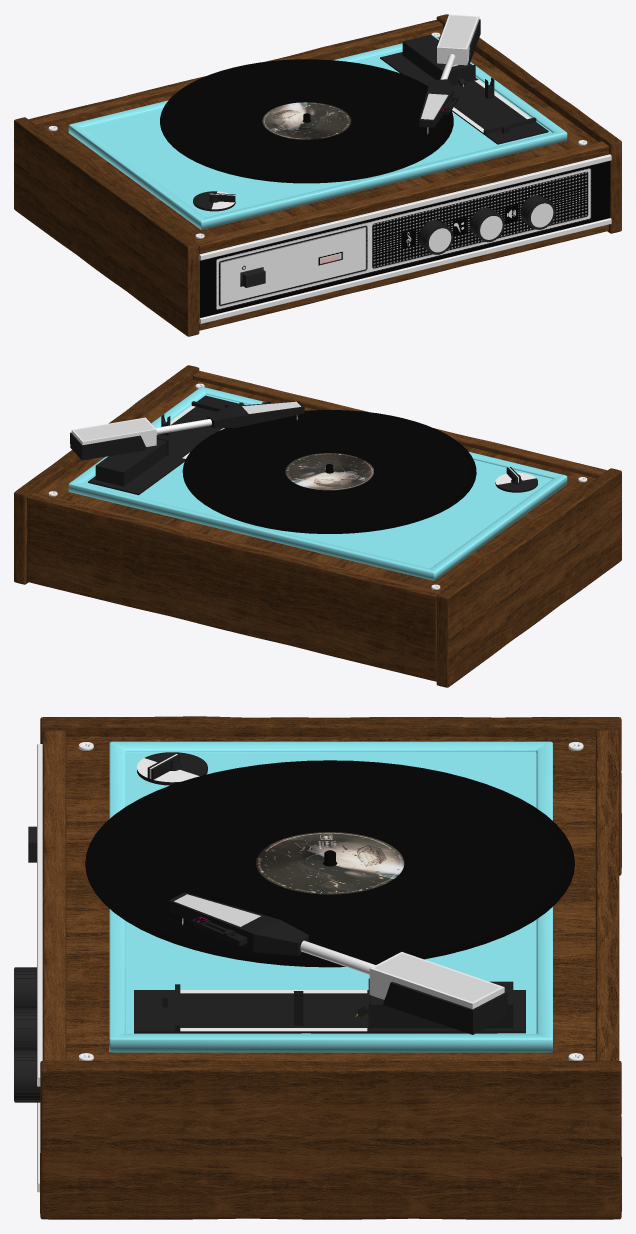
The model's file is record_player.glb.
3 views of the same model, one above another, from view 1: azimuth 30°, elevation 25°; view 2: azimuth 150°, elevation 25°; view 3: azimuth 270°, elevation 25° (orthographic). The views are drawn at different scales.
Parts seen in each view (by area): view 1: Cylinder.010, Cube, Plane.003, Plane.004, Plane.002, Plane.007, Cube.006, Plane.001, Cube.004, Cube.001, Cube.002, Cylinder.002 (+3 smaller); view 2: Plane.001, Cylinder.010, Plane.003, Plane.004, Plane.007, Plane.002, Cube.006, Cube.004, Cube.002, Cube.001, Cube.003, Cylinder.008; view 3: Plane.003, Cylinder.010, Plane.004, Plane.007, Cube.006, Plane.001, Plane.002, Cube.002, Cube.001, Cube.003, Cube, Cube.004 (+5 smaller).
Boxes of the visible parts, x1,y1,x2,y2 form: Cylinder.010: (160,59,453,183); Cube: (199,154,611,324); Plane.003: (14,14,621,336); Plane.004: (68,35,567,229); Plane.002: (195,141,608,330); Plane.007: (39,28,598,240); Cube.006: (380,52,548,144); Plane.001: (29,20,442,126); Cube.004: (402,34,475,85); Cube.001: (437,14,479,65); Cube.002: (419,79,458,127); Cylinder.002: (469,207,504,242); Plane.001: (27,492,440,681); Cylinder.010: (182,410,476,533); Plane.003: (14,365,621,687); Plane.004: (68,386,567,580); Plane.007: (37,379,596,591); Plane.002: (193,371,606,478); Cube.006: (88,395,239,495); Cube.004: (95,437,168,486); Cube.002: (207,401,304,428); Cube.001: (71,417,156,446); Cube.003: (70,432,146,460); Cylinder.008: (495,467,537,492); Plane.003: (40,716,621,1219); Cylinder.010: (85,760,574,967); Plane.004: (109,741,552,1052); Plane.007: (66,736,595,1061); Cube.006: (134,984,525,1033); Plane.001: (595,730,619,1060); Plane.002: (42,730,66,1060); Cube.002: (168,892,308,955); Cube.001: (369,952,504,1009); Cube.003: (383,982,507,1034); Cube: (37,744,42,1192); Cube.004: (357,978,513,1028).
Bounding box in the file's own units: 0.5295 × 0.1439 × 0.3847.
23 materials, 8 textured.
